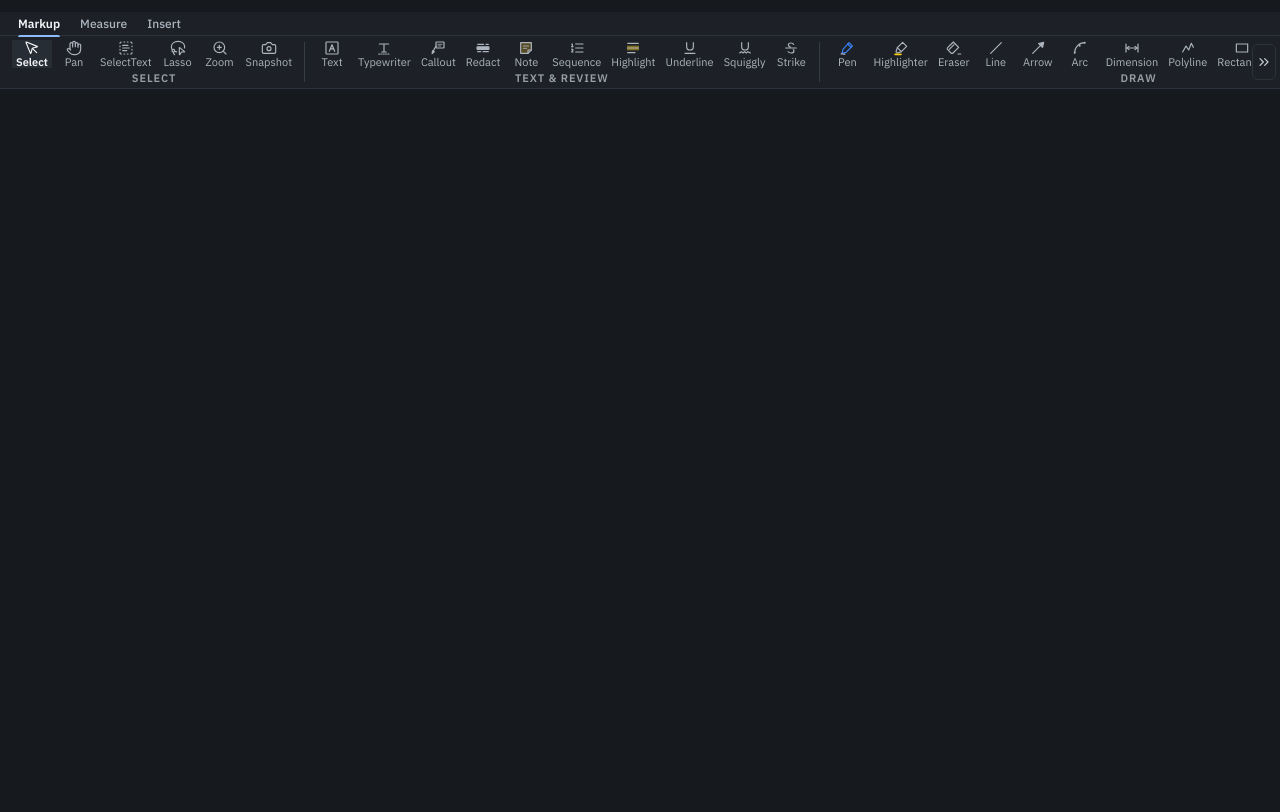
Test: Cinta: botón More tools en ventanas estrechas (ADR-0134) › abre la lista con todas las herramientas de la pestaña, elige una y se cierra
This screenshot has width=1280, height=812.
Click the button with test id "ribbon-more": (1264, 62) [1252,44,1276,80]
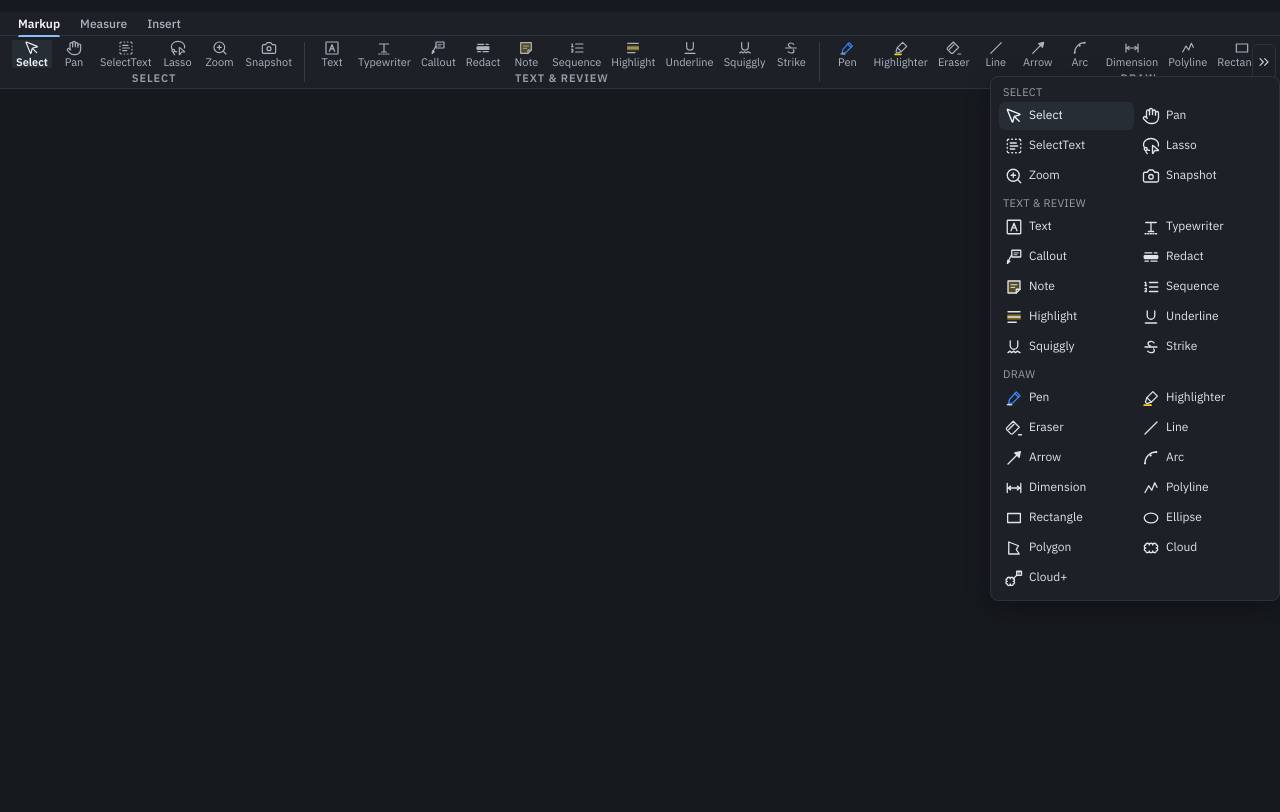
Check: the menu with test id "ribbon-more-menu" shows "Typewriter", box [1136,213,1271,241]
Check: the menu with test id "ribbon-more-menu" shows "Cloud+", box [999,564,1134,592]
Click the menu item with test id "ribbon-more-cloud": (1204, 548) [1136,534,1271,562]
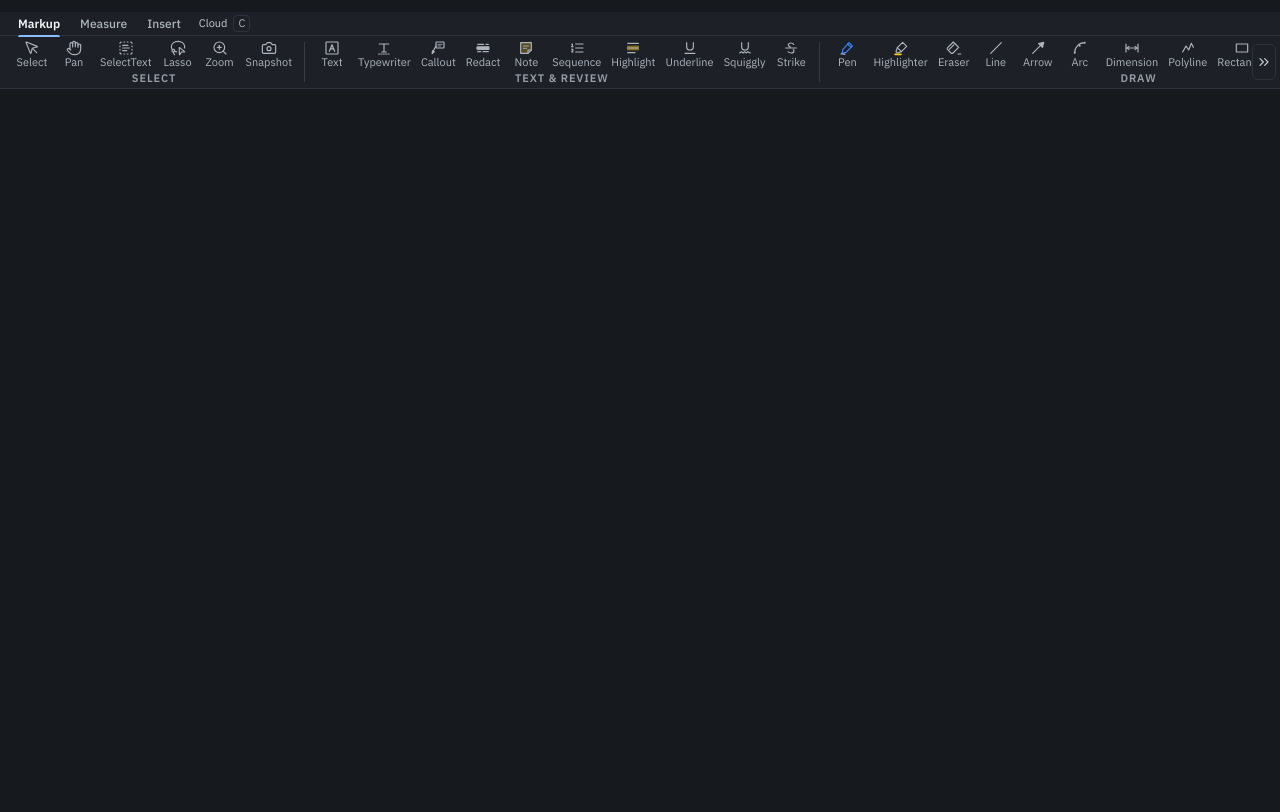
Check: the menu with test id "ribbon-more-menu" is gone
